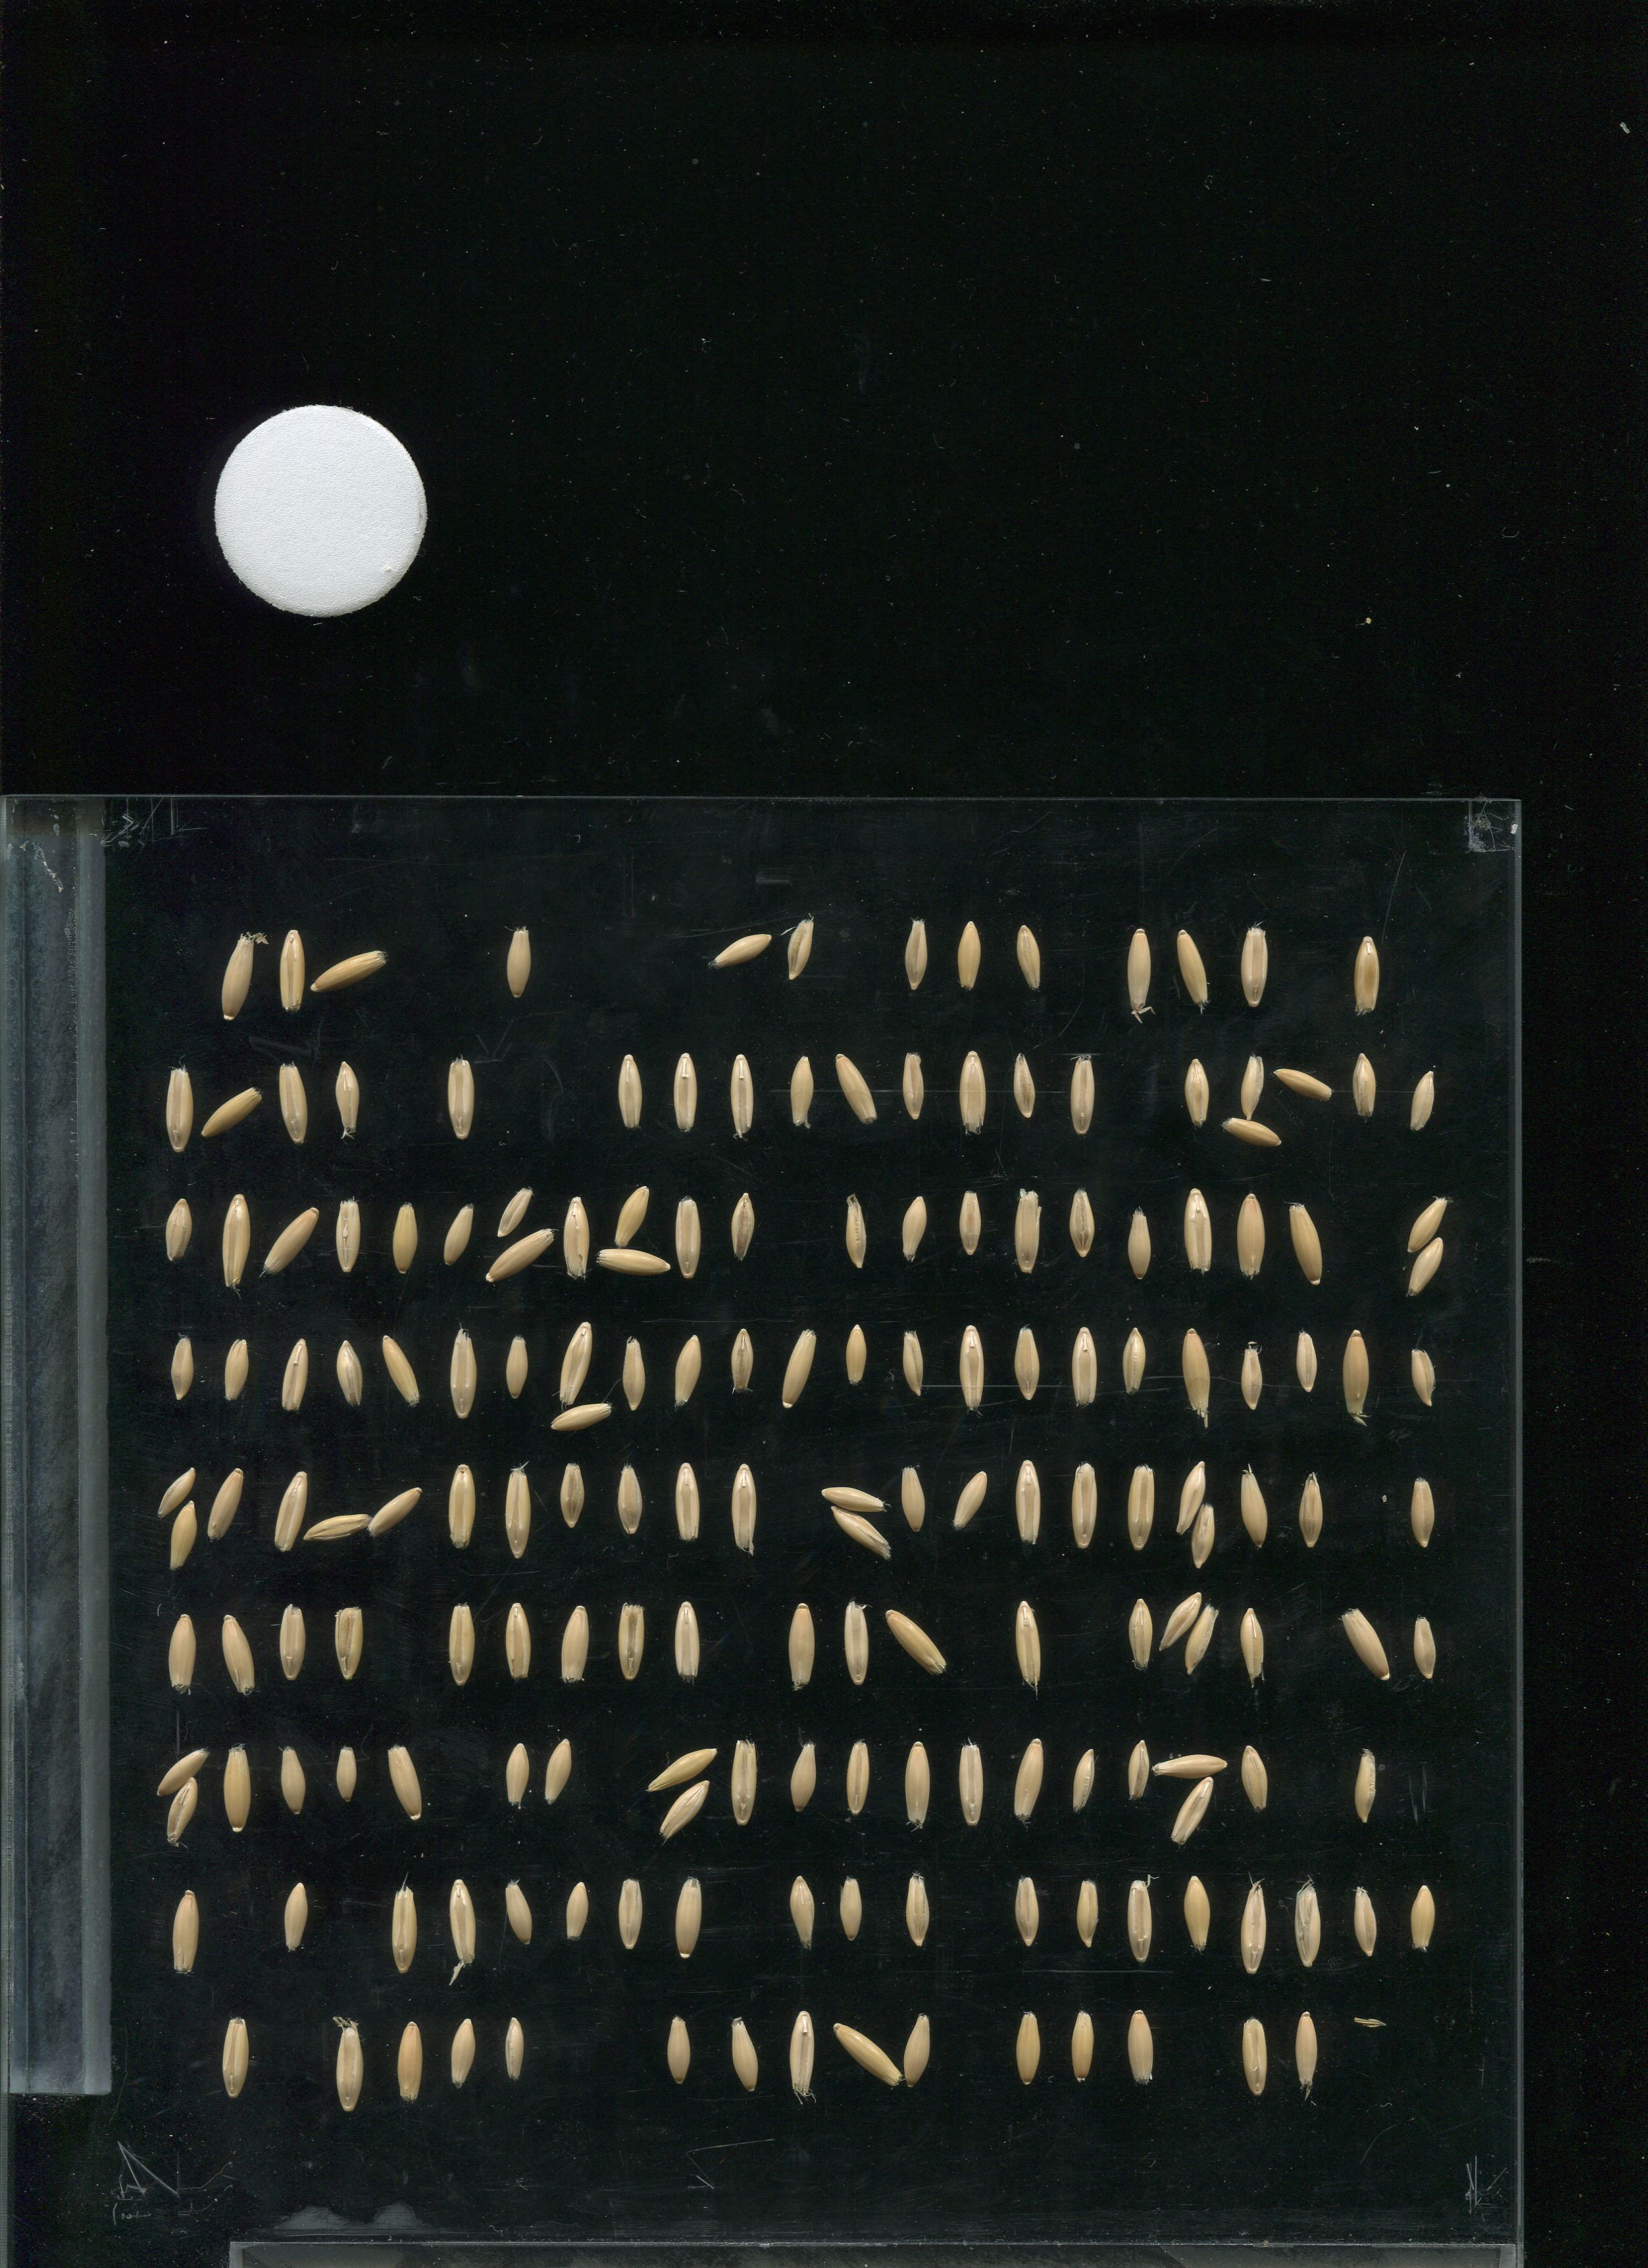BrokenGrain: (1405, 1340, 1444, 1410)
NakedGrain: (275, 1058, 310, 1152), (611, 1044, 646, 1138), (666, 1044, 701, 1138), (725, 1049, 761, 1143), (1238, 2009, 1273, 2102), (1287, 1877, 1322, 1970), (1065, 1051, 1099, 1145), (301, 1507, 372, 1546), (1176, 1053, 1210, 1134), (1234, 1337, 1268, 1417), (1118, 1324, 1151, 1405), (1122, 1204, 1155, 1285), (1065, 1183, 1099, 1264), (838, 1190, 872, 1271), (275, 1740, 308, 1821), (1067, 1738, 1100, 1819), (1122, 1733, 1155, 1814), (785, 1870, 819, 1951), (560, 1870, 593, 1951), (662, 2009, 695, 2090), (544, 1733, 578, 1814), (500, 1733, 533, 1814), (444, 1057, 477, 1138), (1349, 1048, 1382, 1129), (724, 1322, 757, 1403), (787, 1736, 820, 1817), (500, 1875, 533, 1956), (1347, 1884, 1380, 1965), (1405, 1879, 1438, 1960), (1007, 1046, 1041, 1125), (896, 1046, 930, 1125), (1291, 1324, 1324, 1403), (725, 1187, 759, 1266), (556, 1456, 590, 1535), (1070, 1874, 1104, 1953), (1009, 1874, 1042, 1953), (497, 2011, 530, 2090), (498, 1329, 532, 1409), (164, 1328, 197, 1407), (160, 1194, 194, 1273), (1405, 1060, 1438, 1139), (1349, 1750, 1382, 1830), (898, 1321, 931, 1400), (954, 1185, 986, 1266), (1407, 1472, 1438, 1553), (1407, 1608, 1438, 1689), (331, 1733, 363, 1814), (833, 1868, 864, 1949), (842, 1736, 873, 1817), (1014, 917, 1046, 998), (1220, 1111, 1284, 1152), (333, 1196, 364, 1277), (495, 1182, 539, 1240), (900, 916, 931, 995), (614, 1460, 646, 1539), (901, 1872, 933, 1951), (613, 1875, 644, 1955), (222, 1331, 254, 1410), (333, 1060, 364, 1139), (785, 916, 819, 984), (1275, 1069, 1335, 1102), (1240, 1049, 1266, 1125)
WholeGrain: (828, 2021, 903, 2095), (880, 1604, 951, 1678), (259, 1203, 322, 1282), (1336, 1602, 1394, 1687), (822, 1500, 896, 1565), (308, 946, 396, 998), (481, 1226, 558, 1285), (1338, 1328, 1382, 1430), (829, 1305, 873, 1407), (438, 1321, 482, 1423), (380, 1321, 424, 1423), (326, 1321, 370, 1423), (893, 1446, 937, 1548), (949, 1446, 993, 1548), (1007, 1449, 1051, 1551), (1120, 1451, 1164, 1553), (1234, 1449, 1278, 1551), (1289, 1454, 1333, 1557), (158, 1604, 202, 1706), (438, 1595, 482, 1697), (1011, 1729, 1055, 1831), (725, 1729, 769, 1831), (1007, 1999, 1051, 2101), (780, 2004, 824, 2106), (666, 1867, 710, 1969), (442, 1999, 486, 2101), (389, 2007, 433, 2110), (218, 926, 262, 1027), (951, 1044, 995, 1145), (1004, 1185, 1048, 1285), (1180, 1180, 1224, 1280), (1282, 1190, 1326, 1291), (889, 1175, 933, 1275), (1176, 1328, 1220, 1428), (1060, 1317, 1104, 1417), (1005, 1315, 1049, 1416), (951, 1319, 995, 1419), (778, 1315, 822, 1416), (664, 1319, 708, 1419), (613, 1321, 657, 1421), (555, 1310, 599, 1410), (271, 1322, 315, 1423), (438, 1458, 482, 1558), (495, 1463, 539, 1564), (664, 1454, 708, 1555), (722, 1458, 766, 1558), (1062, 1453, 1106, 1553), (213, 1604, 257, 1705), (271, 1592, 315, 1692), (324, 1595, 368, 1696), (495, 1594, 539, 1694), (551, 1592, 595, 1692), (611, 1590, 655, 1690), (667, 1590, 711, 1690), (778, 1590, 822, 1690), (833, 1588, 877, 1689), (1009, 1594, 1053, 1694), (953, 1731, 997, 1831), (894, 1731, 938, 1831), (382, 1731, 426, 1831), (215, 1736, 259, 1837), (1285, 2004, 1329, 2104), (1176, 1867, 1220, 1967), (1118, 1868, 1162, 1969), (1118, 1992, 1162, 2092), (1060, 1995, 1104, 2095), (438, 1877, 482, 1977), (382, 1877, 426, 1977), (326, 2018, 370, 2118), (164, 1882, 208, 1983), (213, 2007, 257, 2108), (1231, 1872, 1273, 1974), (1231, 1182, 1273, 1282), (833, 1044, 882, 1129), (639, 1747, 720, 1798), (653, 1775, 711, 1844), (268, 1465, 310, 1558), (364, 1483, 428, 1543), (1155, 1587, 1208, 1657), (202, 1462, 248, 1543), (1167, 1775, 1217, 1849), (197, 1085, 266, 1138), (671, 1189, 708, 1285), (1169, 1456, 1213, 1535), (1400, 1190, 1451, 1257), (727, 2014, 768, 2097), (1403, 1233, 1451, 1303), (611, 1178, 657, 1250), (160, 1775, 206, 1847), (1181, 1599, 1222, 1680), (1176, 921, 1211, 1013), (901, 2009, 940, 2092), (162, 1499, 202, 1574), (1238, 1740, 1275, 1823), (153, 1749, 211, 1800), (562, 1192, 593, 1285), (708, 930, 775, 974), (222, 1192, 250, 1296), (151, 1463, 197, 1525), (954, 907, 984, 1000), (1241, 919, 1271, 1013), (1352, 930, 1382, 1023), (593, 1245, 673, 1280), (1150, 1749, 1229, 1784), (278, 1877, 313, 1956), (817, 1483, 893, 1518), (440, 1196, 474, 1275), (1125, 1590, 1155, 1678), (278, 923, 306, 1016), (1125, 924, 1153, 1018), (164, 1062, 192, 1155), (785, 1042, 813, 1136), (544, 1400, 618, 1435), (1238, 1599, 1266, 1687), (504, 921, 533, 1002), (391, 1196, 419, 1278), (1190, 1499, 1220, 1569)
